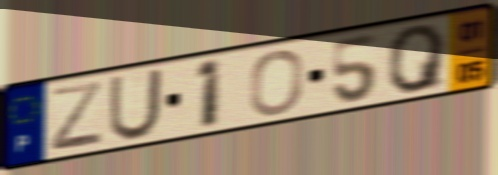1: (193, 56, 223, 131)
5: (330, 30, 379, 105)
O: (247, 47, 306, 118)
Q: (385, 21, 450, 96)
U: (106, 65, 166, 144)
Z: (48, 78, 106, 154)
